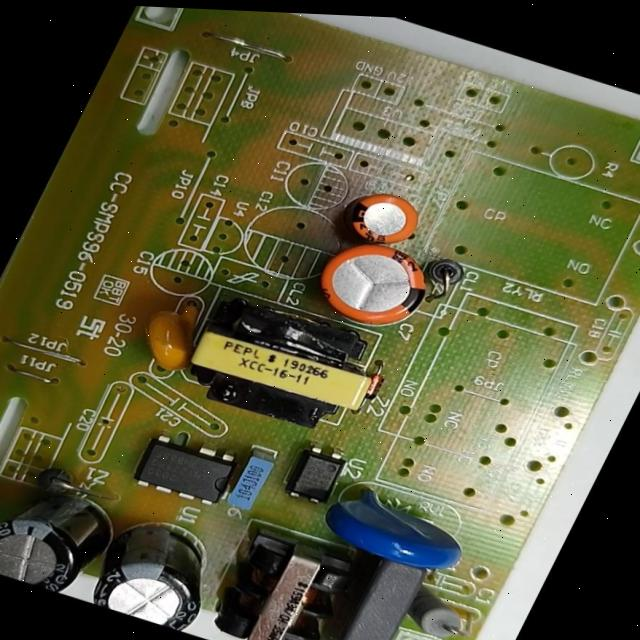Cap1: (300, 223, 448, 341)
Cap2: (344, 185, 434, 255)
Cap3: (82, 507, 235, 635)
Cap4: (0, 472, 126, 601)
MOSFET: (124, 424, 245, 513)
Mov: (310, 485, 480, 581)
Resistor: (400, 583, 480, 640)
Transformer: (173, 285, 401, 449), (198, 514, 371, 640)
